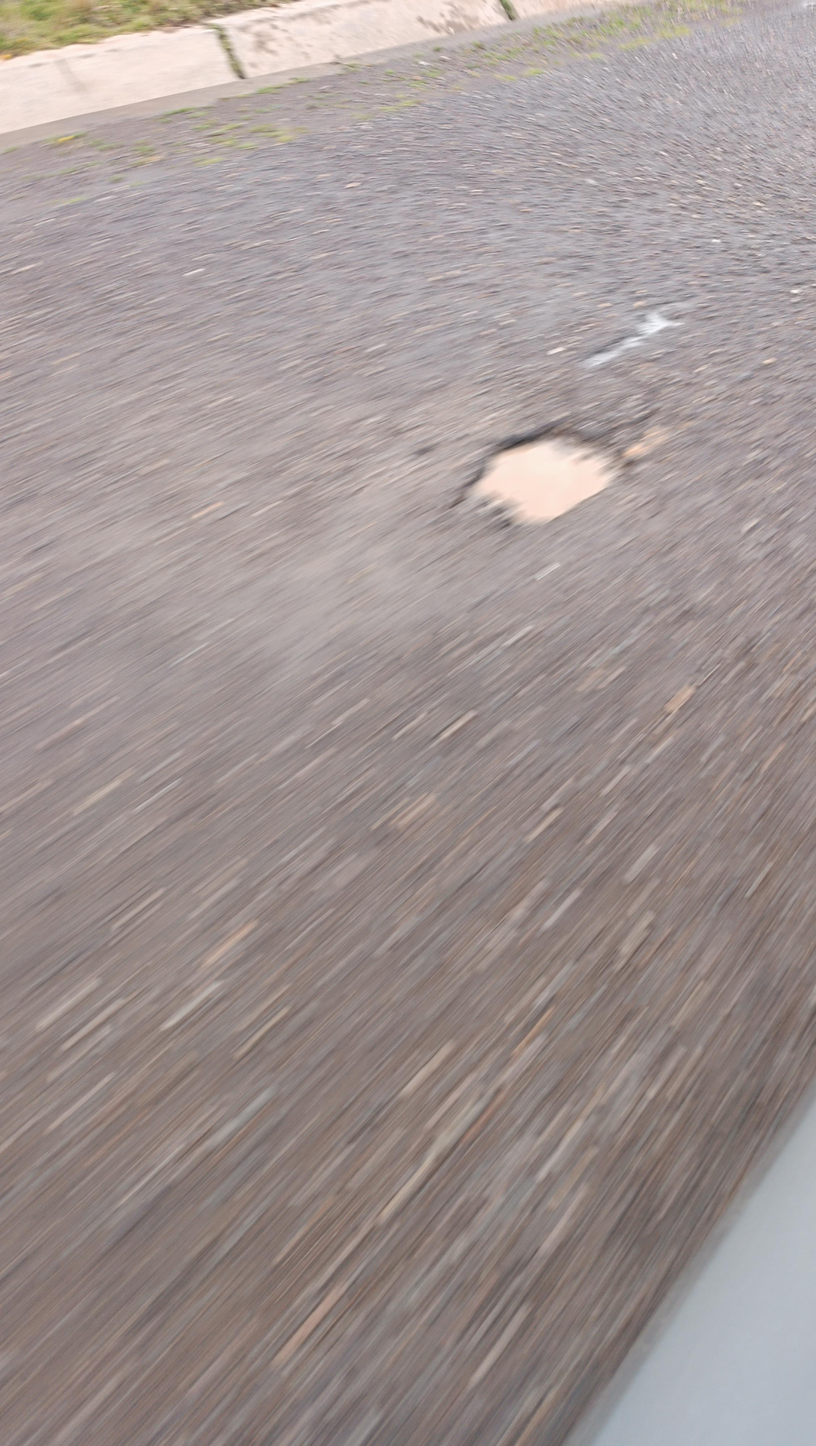BACHE: (459, 426, 626, 532)
